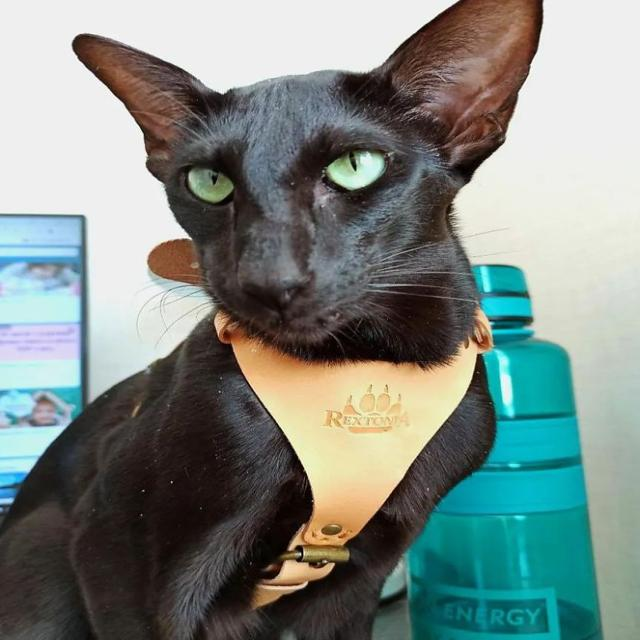Oriental: (0, 0, 546, 640)
